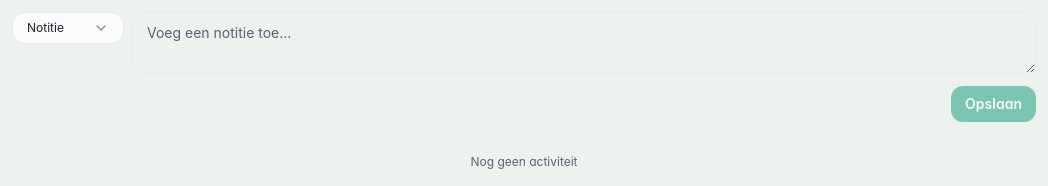
Test: ActivityTab note saving › clears the field and confirms when the note is saved
Type "Belafspraak volgende week" into the text box with placeholder "Voeg een notitie toe..." at (584, 43), box [132,12,1036,74]
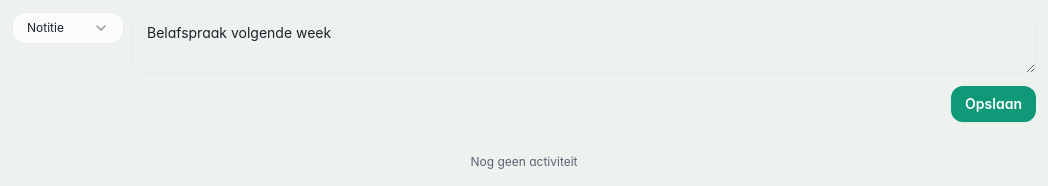
Click the button "Opslaan" at (994, 104), box [951,86,1036,122]
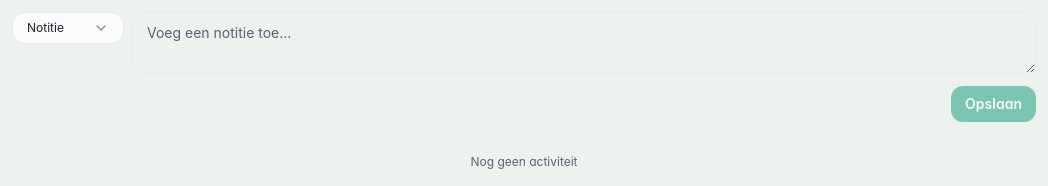
Expected: the text box with placeholder "Voeg een notitie toe..." is empty, [132,12,1036,74]
